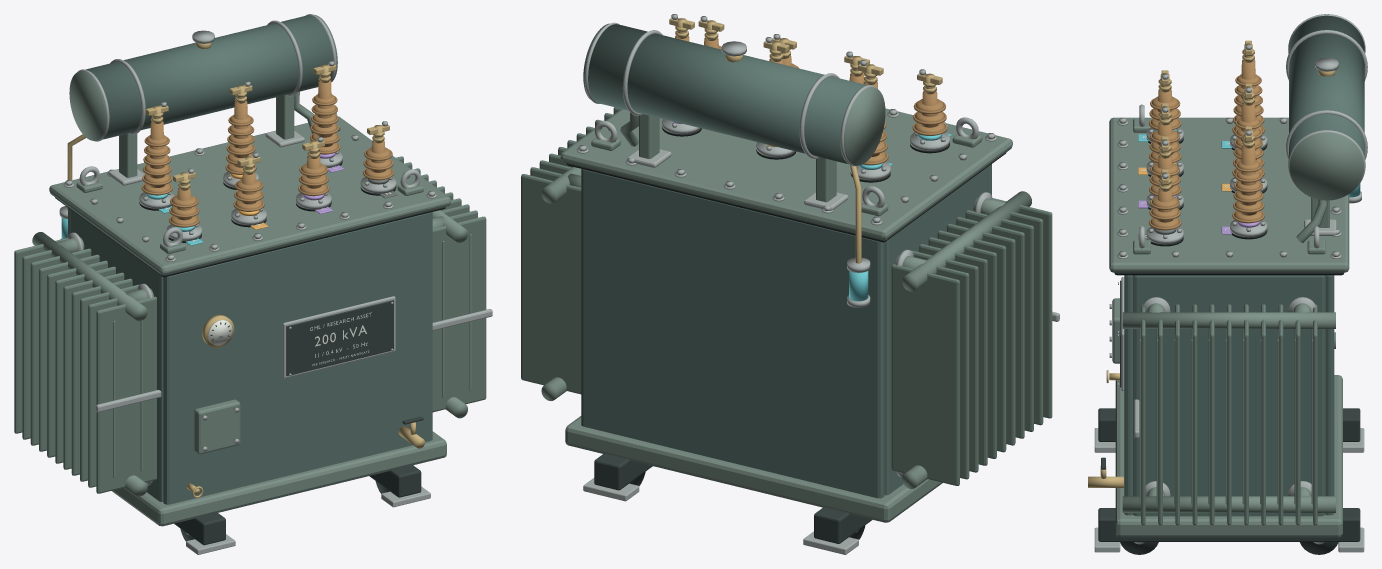
File: gml-transformer.glb
3 views of the same model, side by side, from view 1: azimuth 30°, elevation 25°; view 2: azimuth 150°, elevation 25°; view 3: azimuth 270°, elevation 25° (orthographic). The views are drawn at different scales.
Visible parts, largest first — view 1: tank_shell_geometry, cooling_system_geometry, exterior_details_geometry, tank_lid_geometry, chassis_geometry, bushing_A_geometry, bushing_C_geometry, bushing_B_geometry, bushing_N_geometry; view 2: tank_shell_geometry, cooling_system_geometry, exterior_details_geometry, tank_lid_geometry, chassis_geometry, bushing_A_geometry, bushing_B_geometry, bushing_C_geometry; view 3: tank_shell_geometry, tank_lid_geometry, cooling_system_geometry, exterior_details_geometry, chassis_geometry, bushing_C_geometry, bushing_B_geometry, bushing_A_geometry, bushing_N_geometry.
Part boxes in pixels (x1,y1,x2,y2): tank_shell_geometry: (68, 208, 432, 504); cooling_system_geometry: (14, 156, 492, 496); exterior_details_geometry: (59, 14, 424, 497); tank_lid_geometry: (49, 113, 450, 277); chassis_geometry: (111, 431, 446, 554); bushing_A_geometry: (139, 102, 203, 245); bushing_C_geometry: (296, 61, 343, 214); bushing_B_geometry: (223, 81, 267, 229); bushing_N_geometry: (360, 121, 397, 198); tank_shell_geometry: (581, 164, 991, 498); cooling_system_geometry: (521, 107, 1059, 488); exterior_details_geometry: (583, 22, 885, 307); tank_lid_geometry: (560, 108, 1012, 242); chassis_geometry: (565, 416, 942, 554); bushing_A_geometry: (850, 60, 951, 182); bushing_B_geometry: (756, 37, 869, 159); bushing_C_geometry: (662, 14, 799, 136); tank_shell_geometry: (1124, 275, 1334, 516); tank_lid_geometry: (1109, 104, 1349, 275); cooling_system_geometry: (1122, 297, 1335, 525); exterior_details_geometry: (1088, 14, 1367, 487); chassis_geometry: (1094, 375, 1364, 554); bushing_C_geometry: (1138, 126, 1267, 239); bushing_B_geometry: (1138, 83, 1267, 193); bushing_A_geometry: (1138, 40, 1267, 150); bushing_N_geometry: (1138, 169, 1183, 246).
Size of the model in its own units: 3.73 by 3.77 by 2.18.
